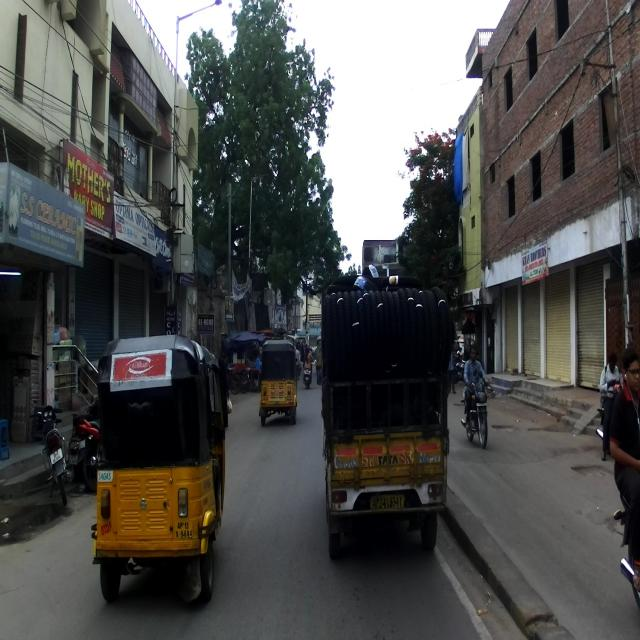autorickshaw: (90, 336, 226, 604)
motorcycle_Hero: (29, 402, 70, 505), (76, 413, 109, 491), (460, 368, 489, 449)
truck: (319, 264, 456, 561)
